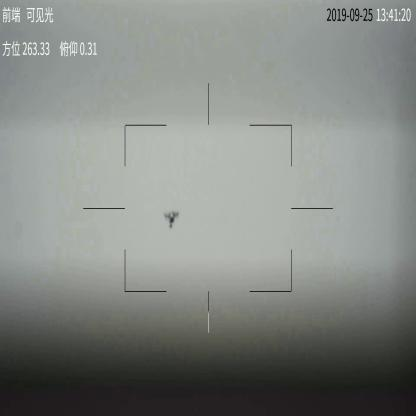uav: (161, 209, 184, 231)
